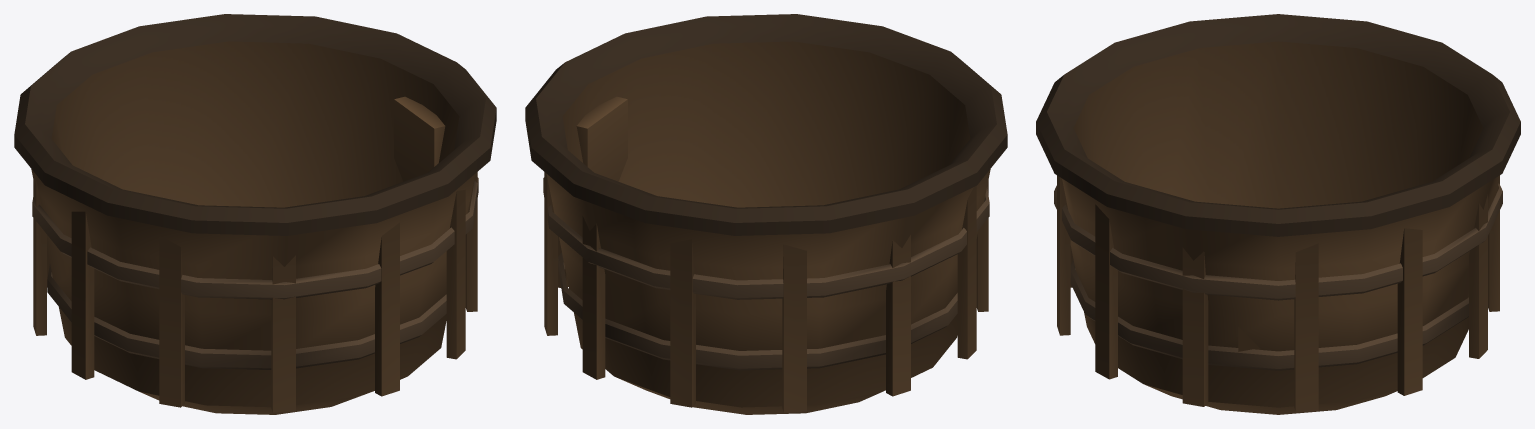
File: crows-nest.glb
3 renders of one model, left to right at view 1: azimuth 30°, elevation 25°; view 2: azimuth 150°, elevation 25°; view 3: azimuth 270°, elevation 25°, orthographic.
Parts seen in each view (by area): view 1: nestBasket, mast; view 2: nestBasket, mast; view 3: nestBasket, mast.
Part boxes in pixels (bbox=[...]): nestBasket: bbox=[31, 41, 477, 414]; mast: bbox=[14, 14, 496, 369]; nestBasket: bbox=[544, 41, 990, 414]; mast: bbox=[525, 14, 1007, 370]; nestBasket: bbox=[1057, 41, 1499, 414]; mast: bbox=[1036, 14, 1520, 370].
Size of the model in its own units: 0.544 by 0.296 by 0.544.
